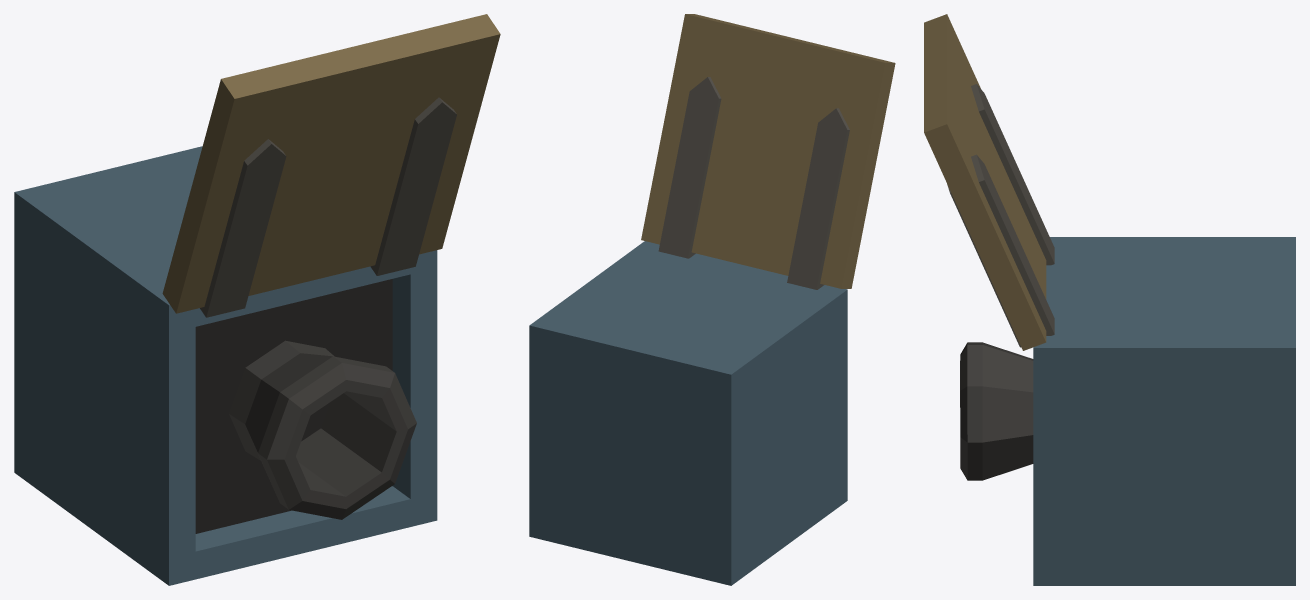
Rendered from ShipCannon_1.fbx.
The picture shows the model from 3 angles, left to right: view 1: azimuth 30°, elevation 25°; view 2: azimuth 150°, elevation 25°; view 3: azimuth 270°, elevation 25°; orthographic projection. The views are drawn at different scales.
Parts seen in each view (by area): view 1: ShipCannon_1; view 2: ShipCannon_1; view 3: ShipCannon_1.
Part boxes in pixels (<box>): ShipCannon_1: <box>14,14,500,585</box>; ShipCannon_1: <box>529,14,895,585</box>; ShipCannon_1: <box>924,14,1295,585</box>.
Size of the model in its own units: 56.2 by 109 by 79.61.
